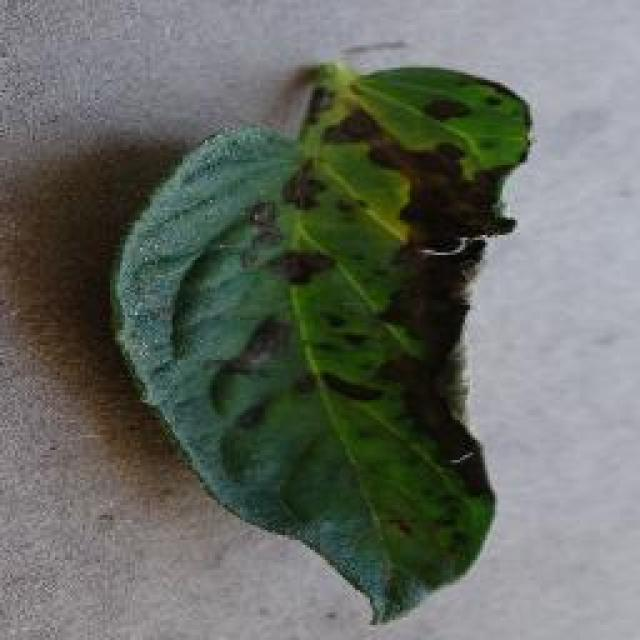leaf blight: (109, 63, 532, 620)
